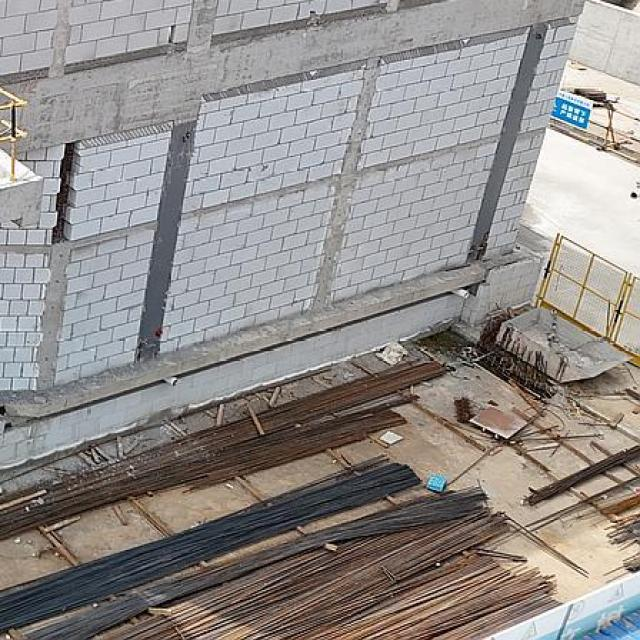edge_guardrail: (0, 85, 30, 182)
